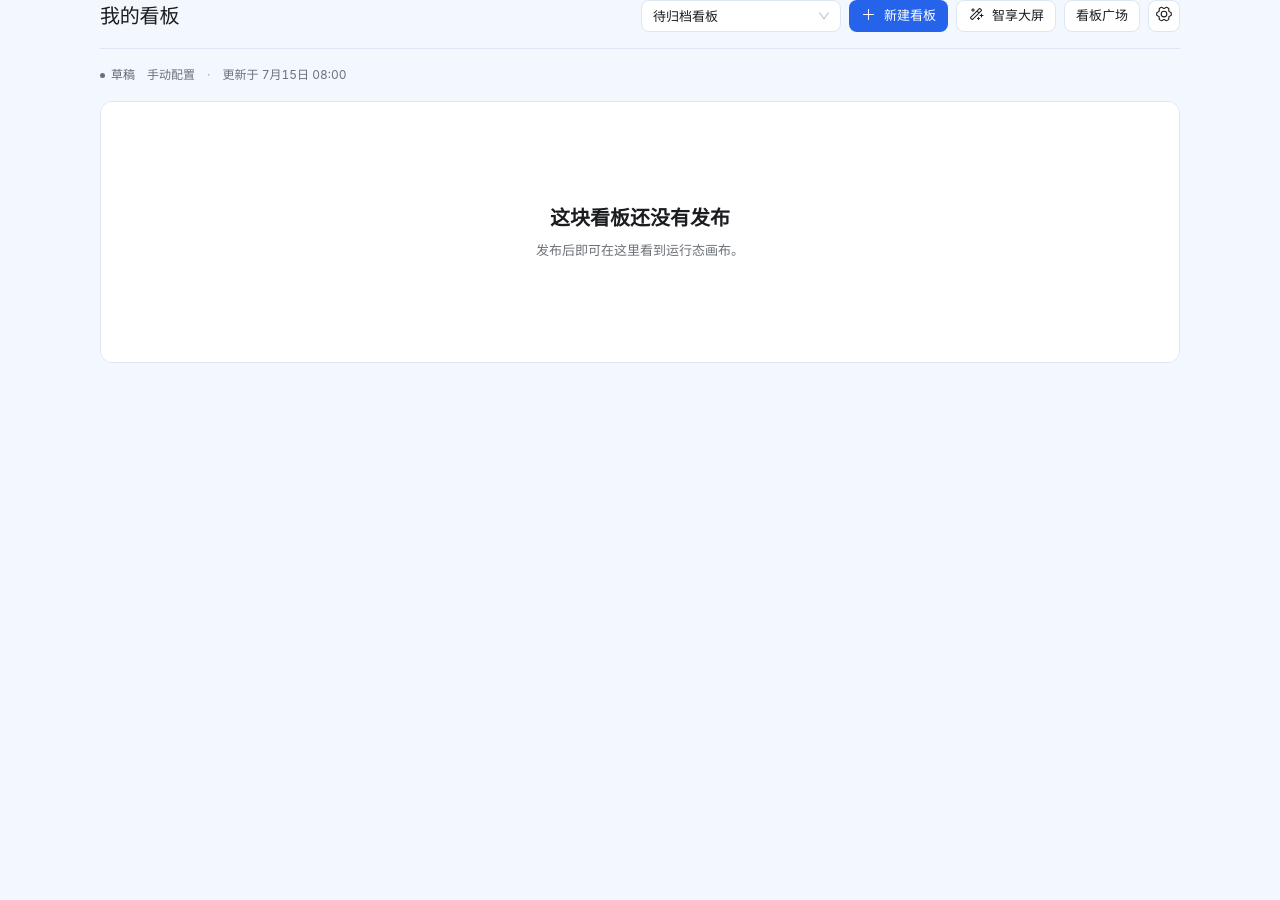
Test case: DashboardPage › archives the current dashboard after an archive-worded confirmation
Click the button named "当前看板设置".
click(1164, 16)  # box [1148,0,1180,32]
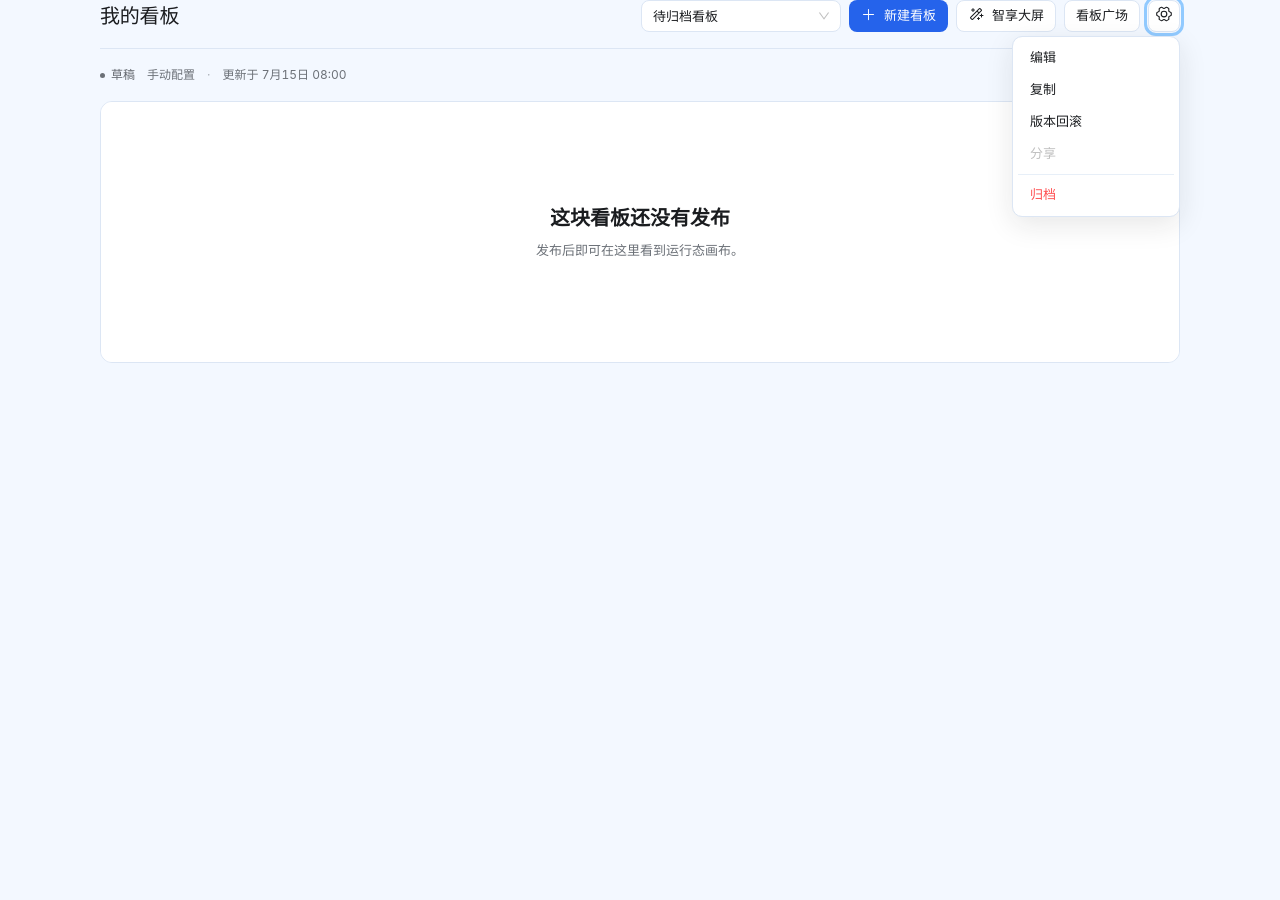
Click the menu item "归档".
click(1043, 194)  # box [1030,186,1056,202]
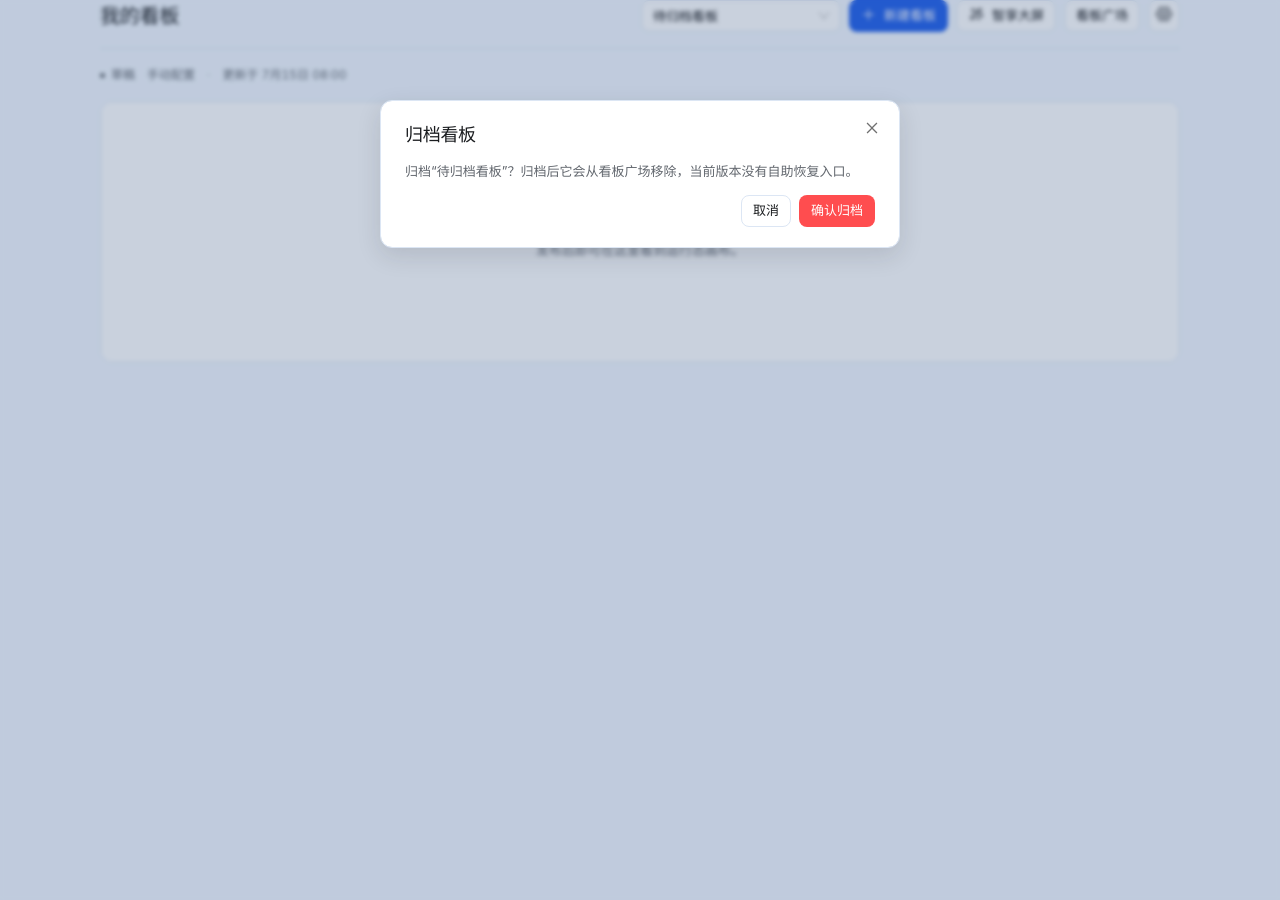
Expected: the dialog "归档看板" shows "归档“待归档看板”？归档后它会从看板广场移除，当前版本没有自助恢复入口。", [380,100,900,272]
Click the button "确认归档".
click(837, 211)  # box [799,195,875,227]
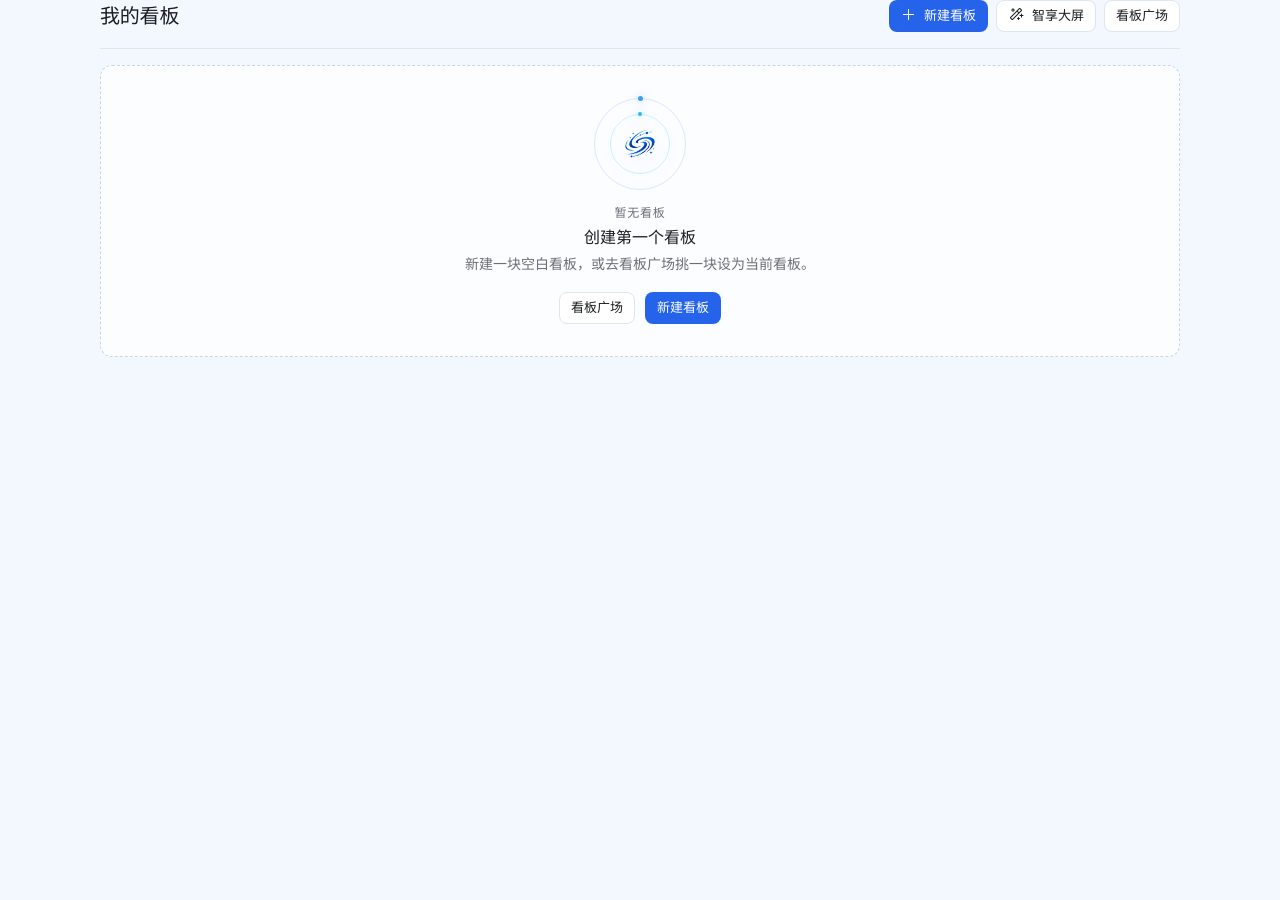
Expected: the element named "我的看板空状态" is shown, [100,65,1180,357]
